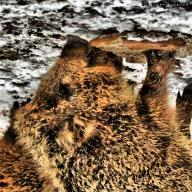boar: (2, 22, 191, 192)
